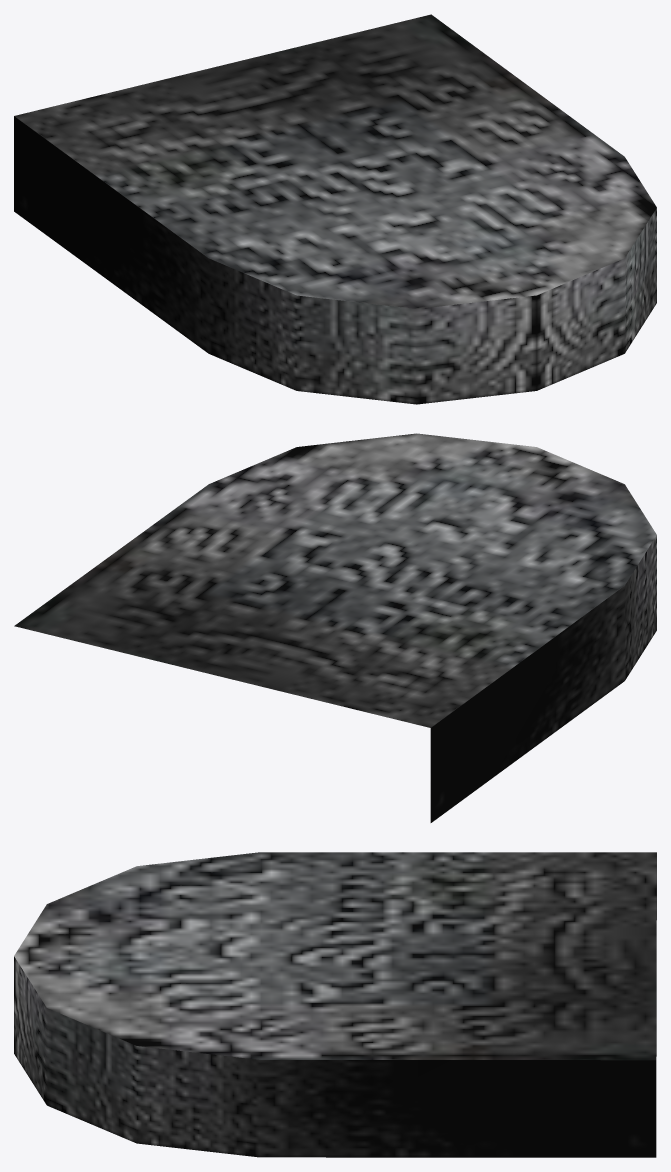
File: Tomb03.glb
The picture shows the model from 3 angles, top to bottom: view 1: azimuth 30°, elevation 25°; view 2: azimuth 150°, elevation 25°; view 3: azimuth 270°, elevation 25°; orthographic projection. The views are drawn at different scales.
Visible parts, largest first — view 1: model_Tomb03; view 2: model_Tomb03; view 3: model_Tomb03.
Part boxes in pixels (<box>): model_Tomb03: <box>14,14,656,404</box>; model_Tomb03: <box>14,433,656,822</box>; model_Tomb03: <box>14,852,656,1157</box>.
Size of the model in its own units: 0.8976 by 0.1964 by 1.17.
1 material, 1 textured.
